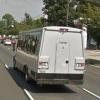Bus: (12, 21, 88, 87)
